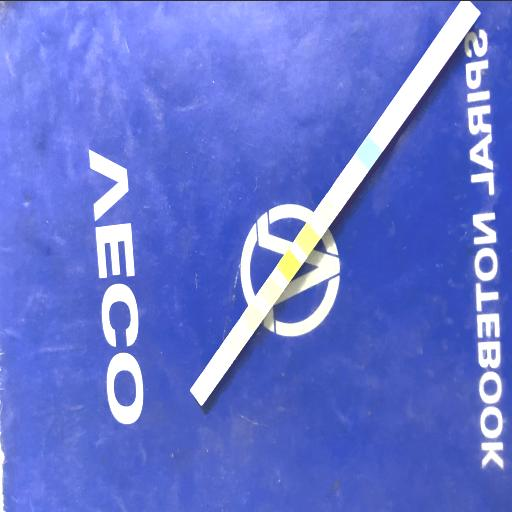Bilirubin: (342, 170, 352, 194)
Blood: (282, 256, 296, 274)
Glucose: (362, 142, 374, 162)
Ketone: (321, 200, 333, 220)
Leukocytes: (196, 380, 206, 398)
Nitrite: (212, 357, 225, 373)
Protein: (246, 307, 258, 325)
SpGravity: (302, 228, 314, 248)
Urobilinogen: (230, 330, 240, 350)
pH: (264, 282, 278, 298)
strip: (190, 0, 481, 406)
